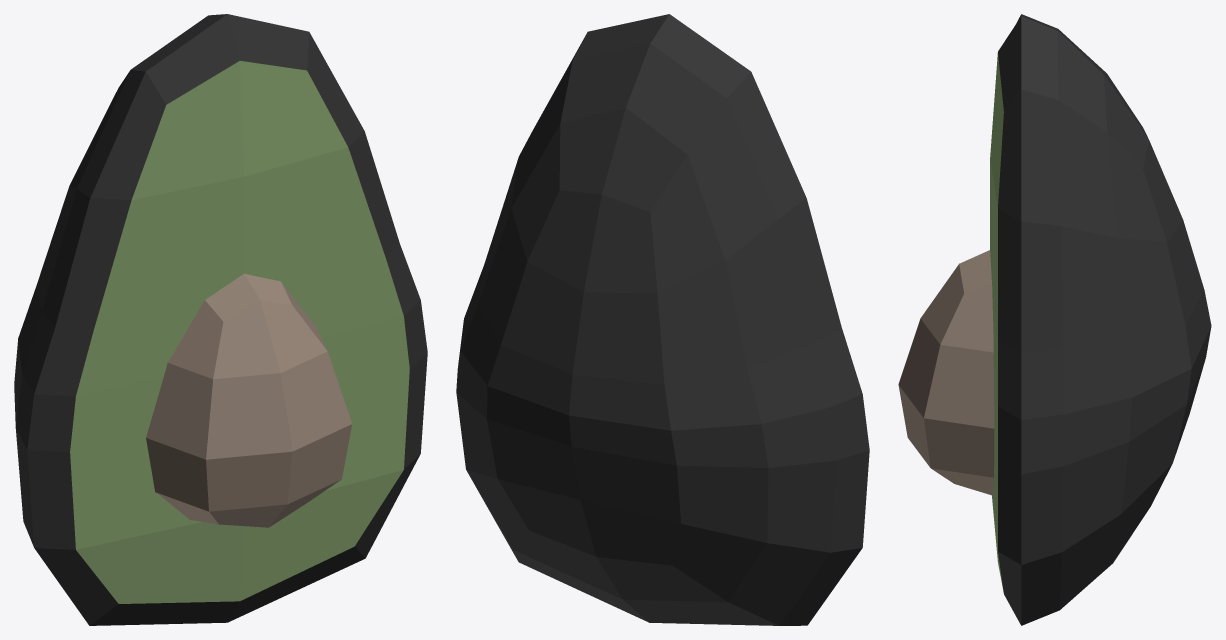
File: Avocado.gltf
The picture shows the model from 3 angles, left to right: view 1: azimuth 30°, elevation 25°; view 2: azimuth 150°, elevation 25°; view 3: azimuth 270°, elevation 25°; orthographic projection. The views are drawn at different scales.
Visible parts, largest first — view 1: Avocado; view 2: Avocado; view 3: Avocado.
Part boxes in pixels (<box>): Avocado: <box>14,14,427,625</box>; Avocado: <box>456,14,869,625</box>; Avocado: <box>898,14,1211,625</box>.
Bounding box in the file's own units: 0.7531 × 1.09 × 0.5398.
